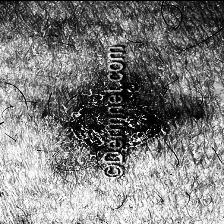Non-Cancerous Skin Condition: (29, 80, 103, 168), (128, 68, 195, 152)
